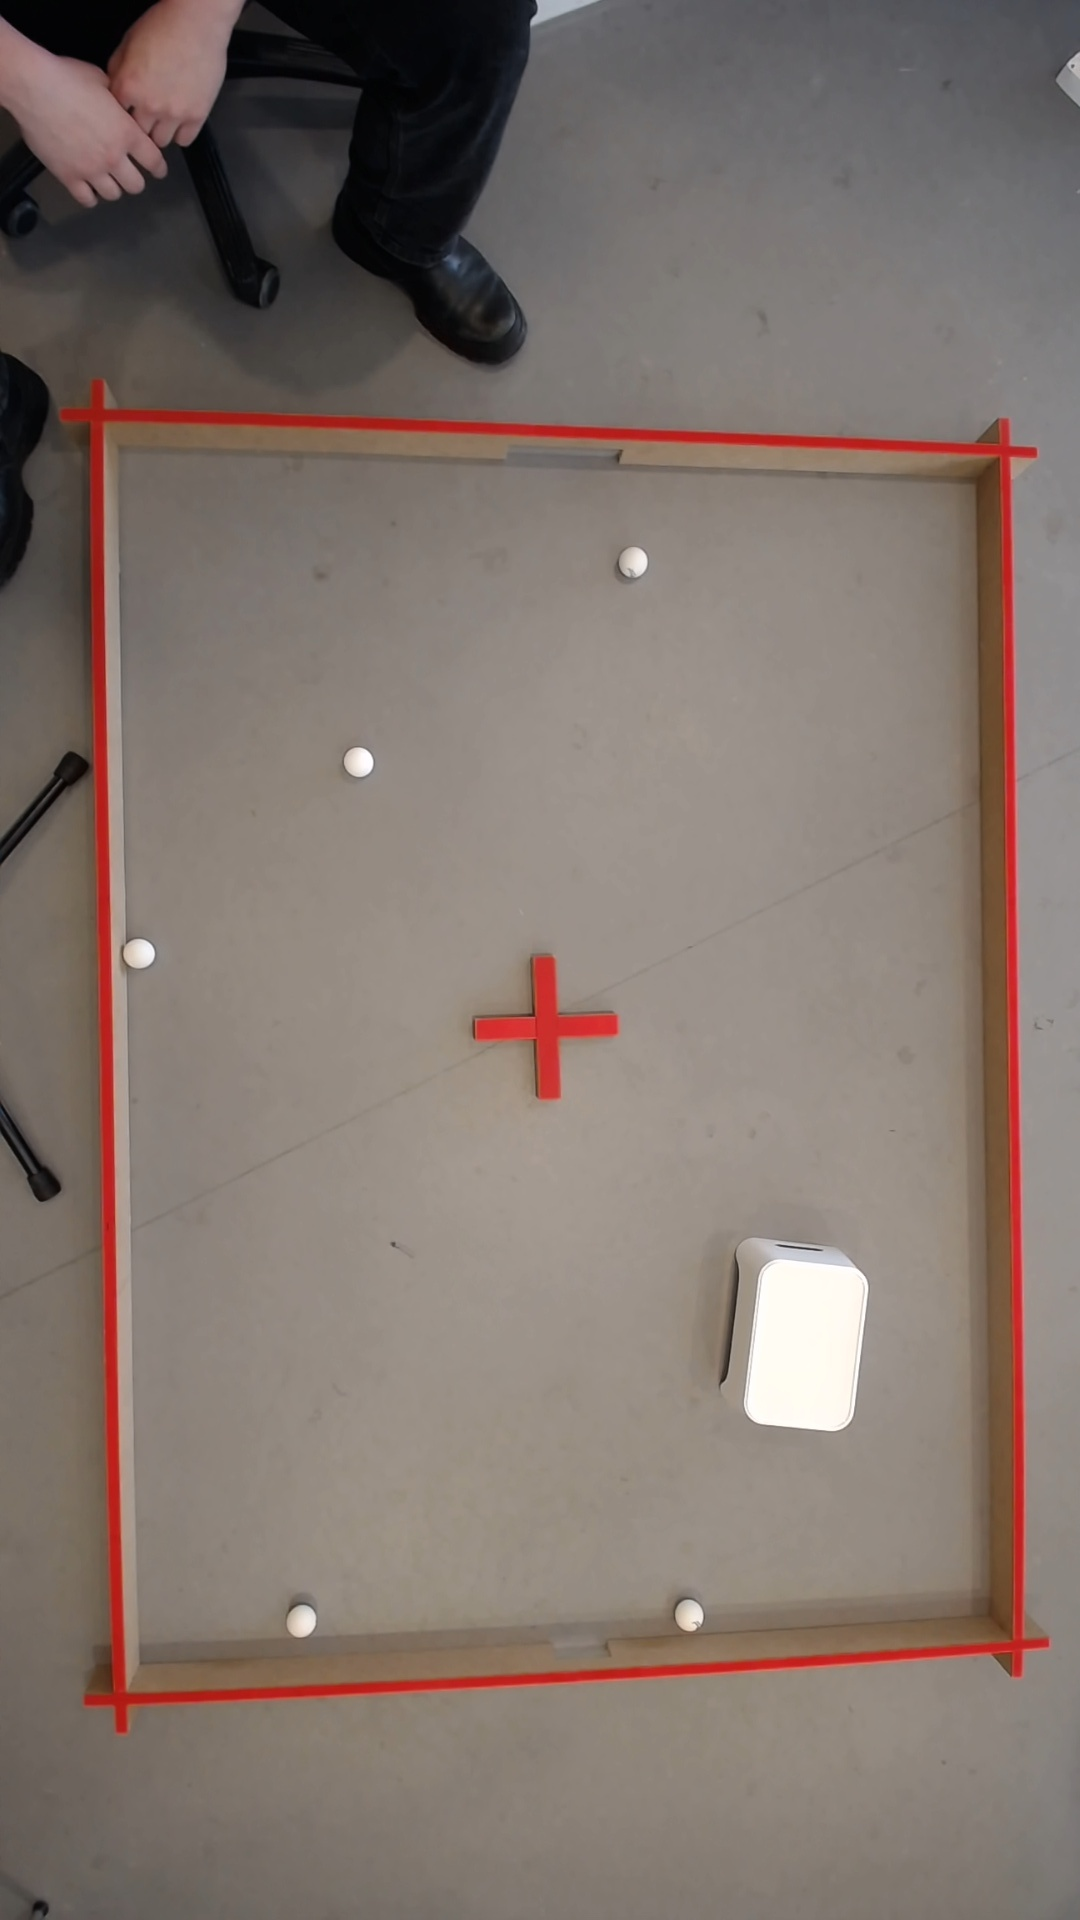balls: (121, 934, 158, 972), (289, 1604, 320, 1639), (348, 748, 372, 777)
car: (622, 546, 651, 576)
